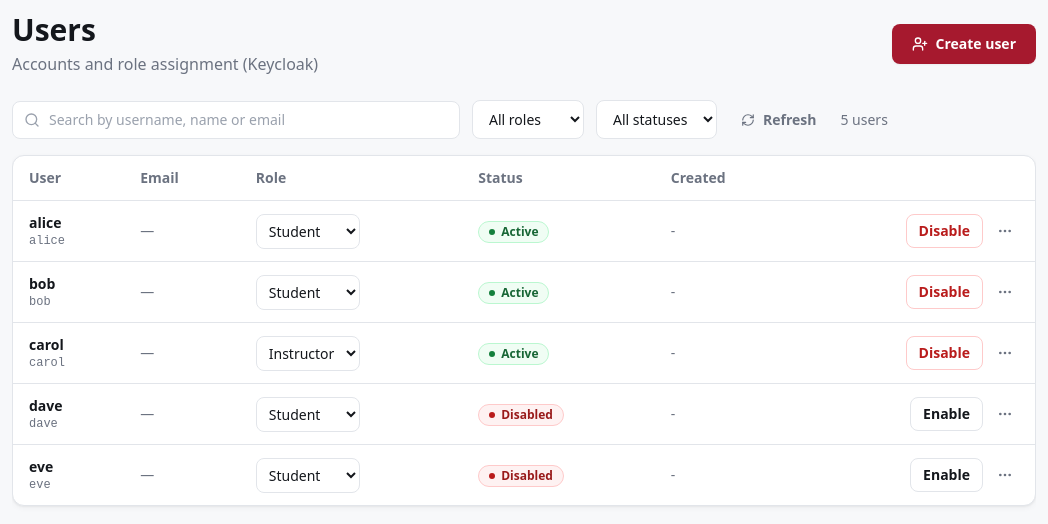
Scenario: the menu closes on Escape and returns focus to its button
Click the button named "More actions for alice" at (1005, 231), box [991,217,1019,245]
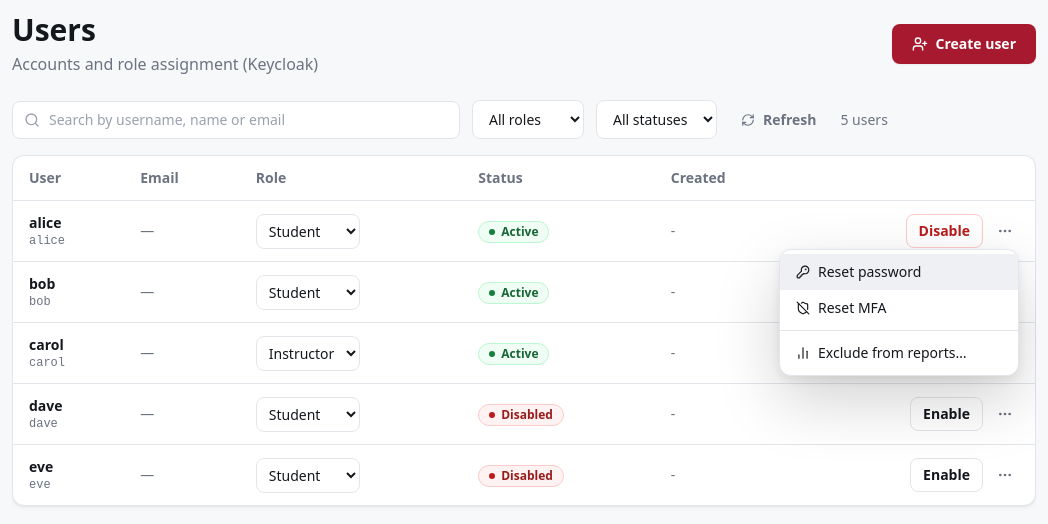
Check: the menu is shown, box [779,249,1019,376]
Press Escape
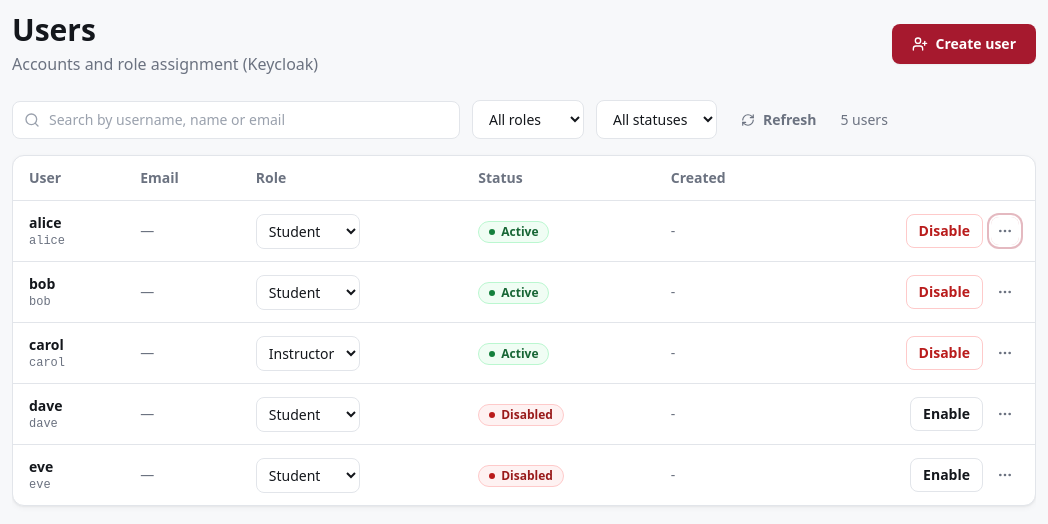
Check: the menu is gone
